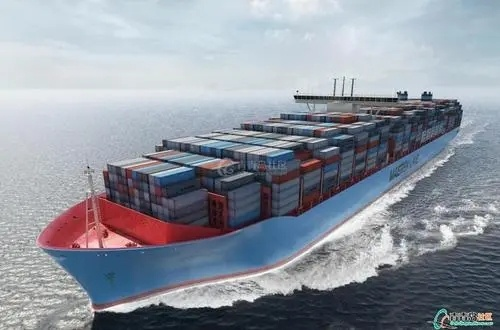Cargoship: (32, 70, 464, 303)
